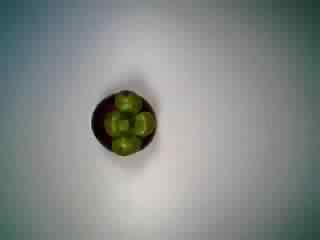mangosteen: (82, 86, 160, 161)
